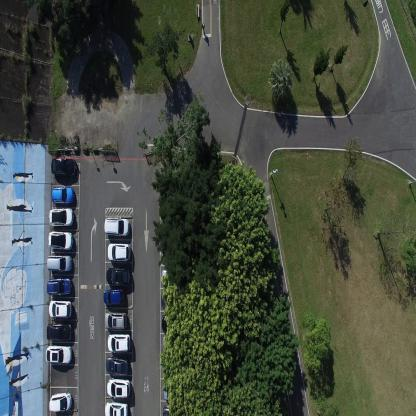car: (45, 344, 73, 364), (46, 275, 72, 296), (103, 216, 130, 236), (46, 322, 73, 342), (48, 391, 72, 413), (47, 230, 73, 250), (48, 206, 74, 226), (50, 158, 77, 177), (105, 354, 128, 376), (106, 332, 130, 353), (107, 242, 131, 262), (48, 298, 72, 318), (162, 382, 187, 401), (106, 266, 131, 285), (107, 377, 130, 397), (160, 268, 184, 287), (160, 314, 184, 333), (51, 186, 75, 205), (47, 254, 72, 272), (103, 287, 125, 307), (104, 311, 127, 329), (160, 291, 182, 309), (104, 400, 128, 416), (162, 405, 185, 415)
